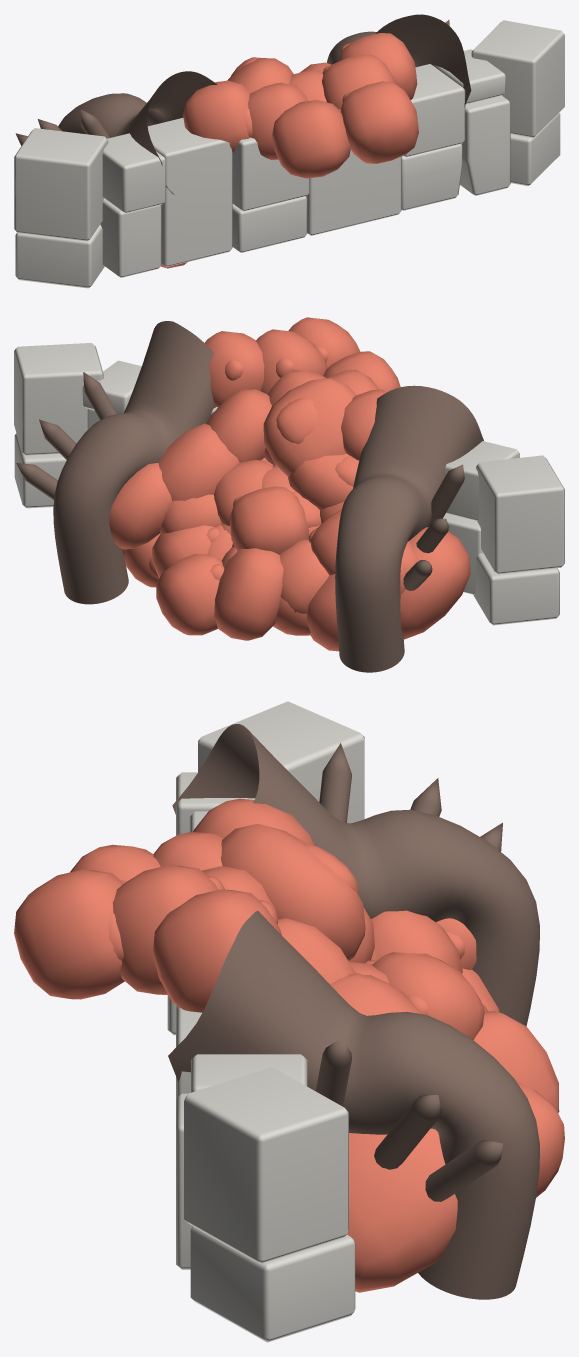
File: MSH_Wall_02.fbx
3 renders of one model, top to bottom at view 1: azimuth 30°, elevation 25°; view 2: azimuth 150°, elevation 25°; view 3: azimuth 270°, elevation 25°, orthographic. The views are drawn at different scales.
Visible parts, largest first — view 1: MSH_Wall_02; view 2: MSH_Wall_02; view 3: MSH_Wall_02.
Part boxes in pixels (x1=…): MSH_Wall_02: x1=14, y1=14, x2=564, y2=288; MSH_Wall_02: x1=14, y1=317, x2=564, y2=672; MSH_Wall_02: x1=14, y1=701, x2=564, y2=1342.
Bounding box in the file's own units: 1621 × 666 × 870.
